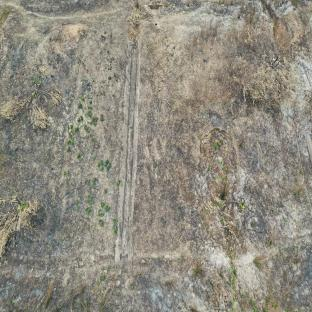slope_drain: (113, 41, 140, 259)
